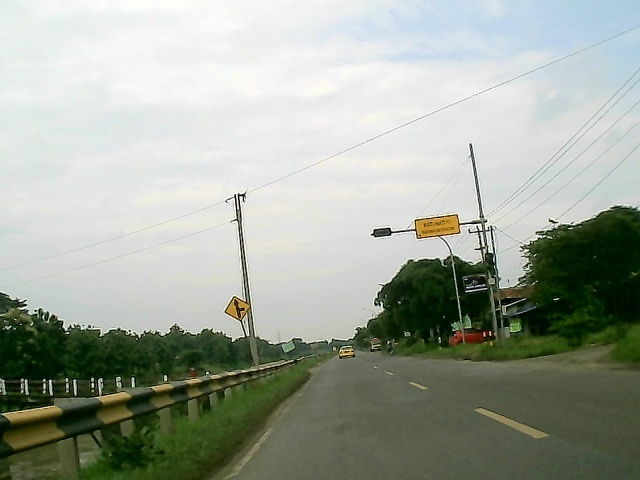Simpang kanan dengan prioritas: (222, 293, 253, 324)
